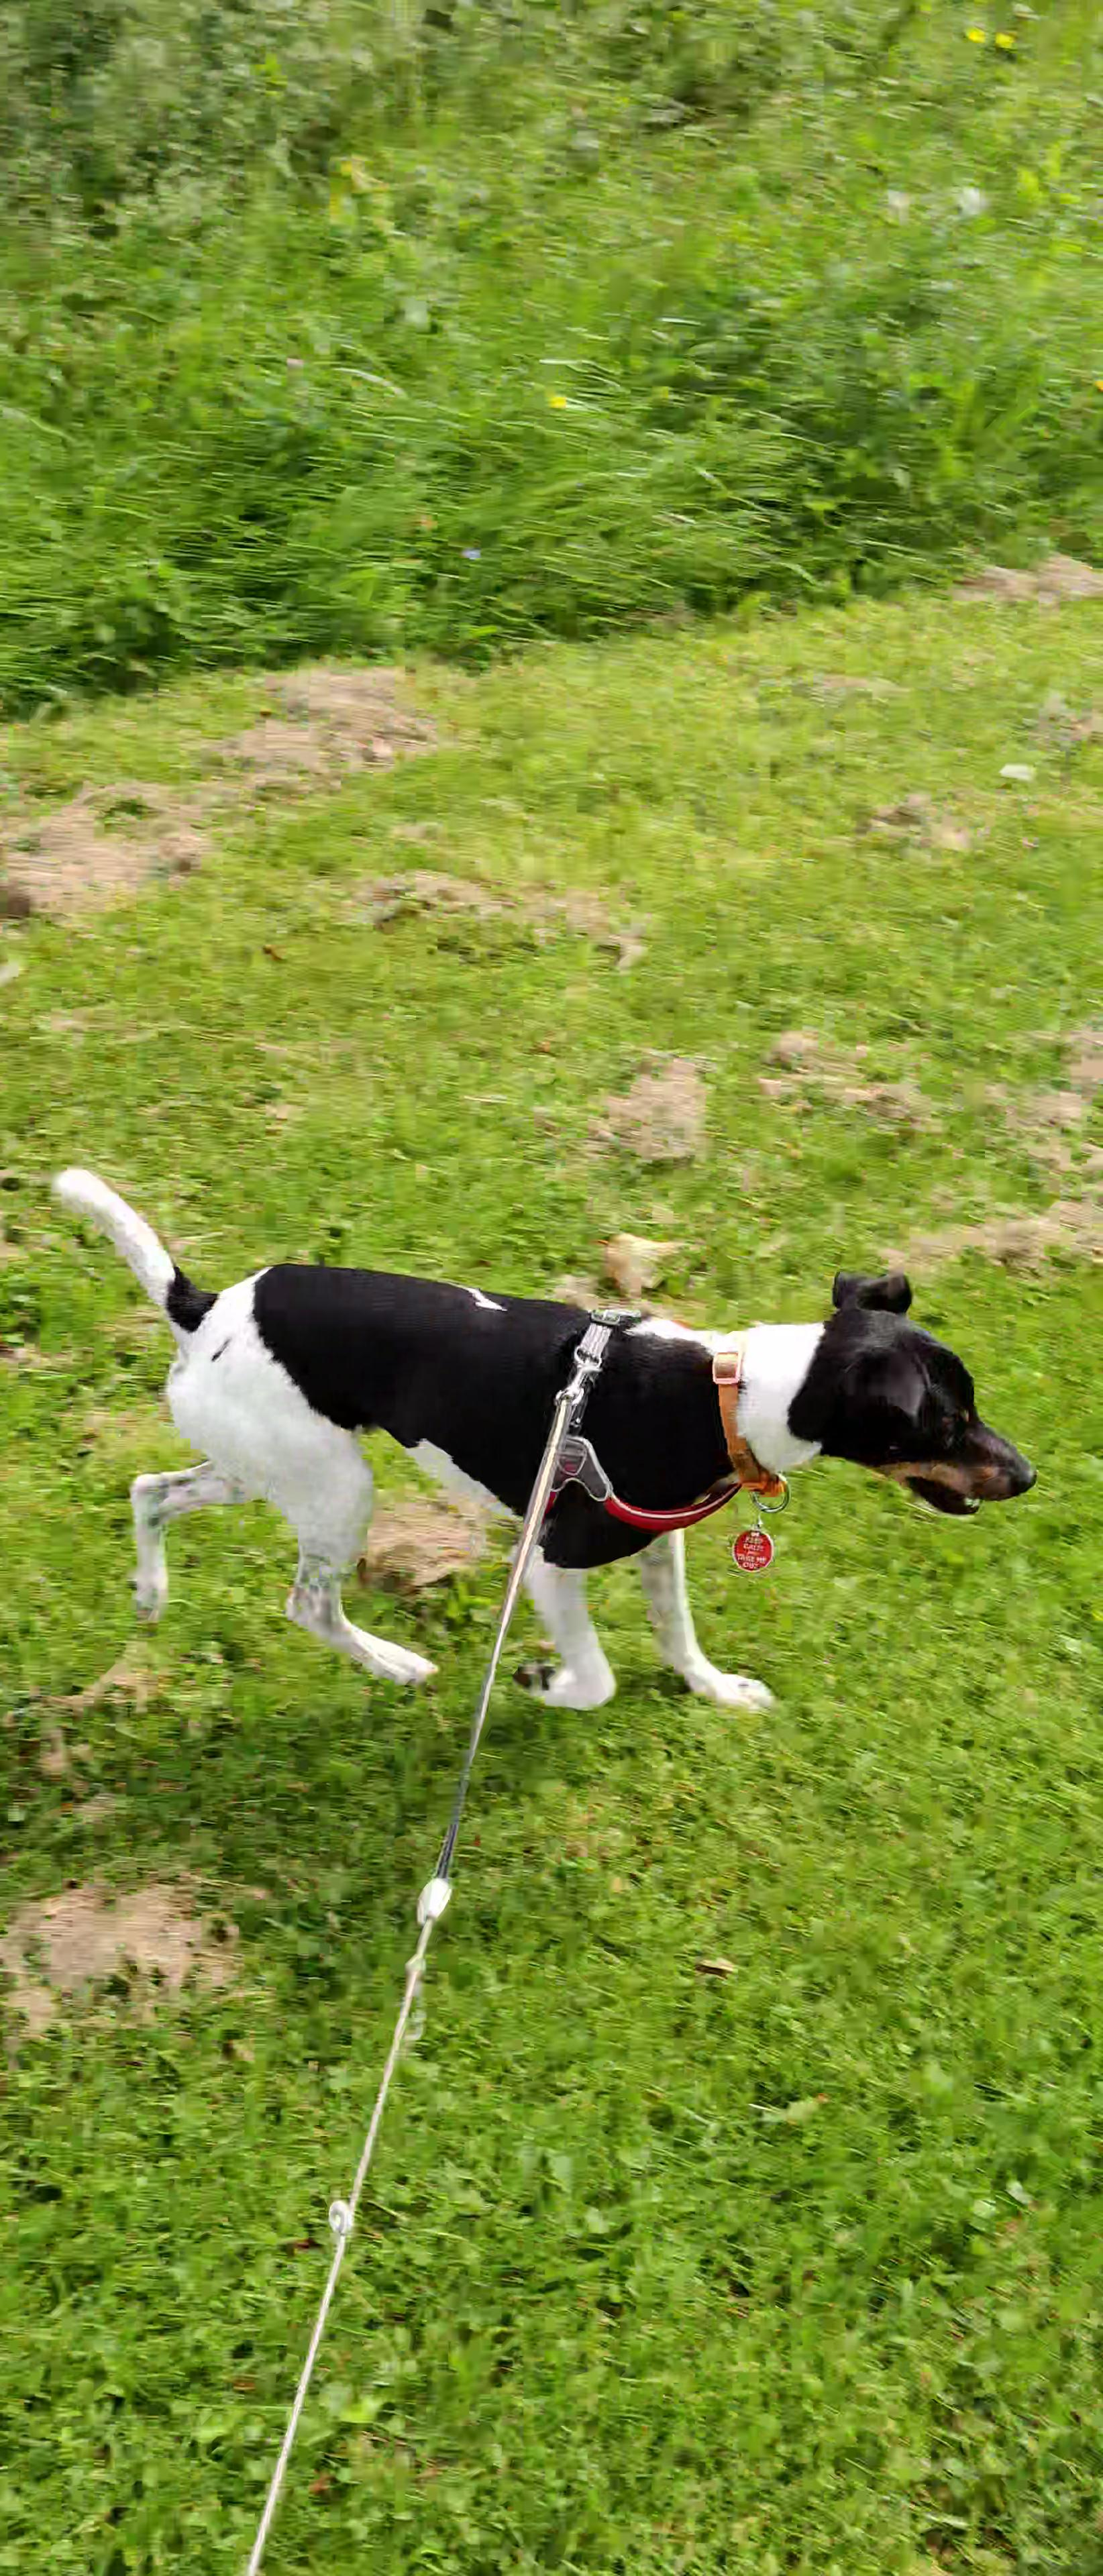Dog: (38, 1153, 1042, 1717)
